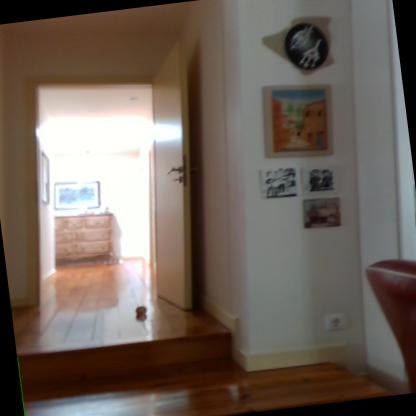open: (0, 27, 257, 364)
